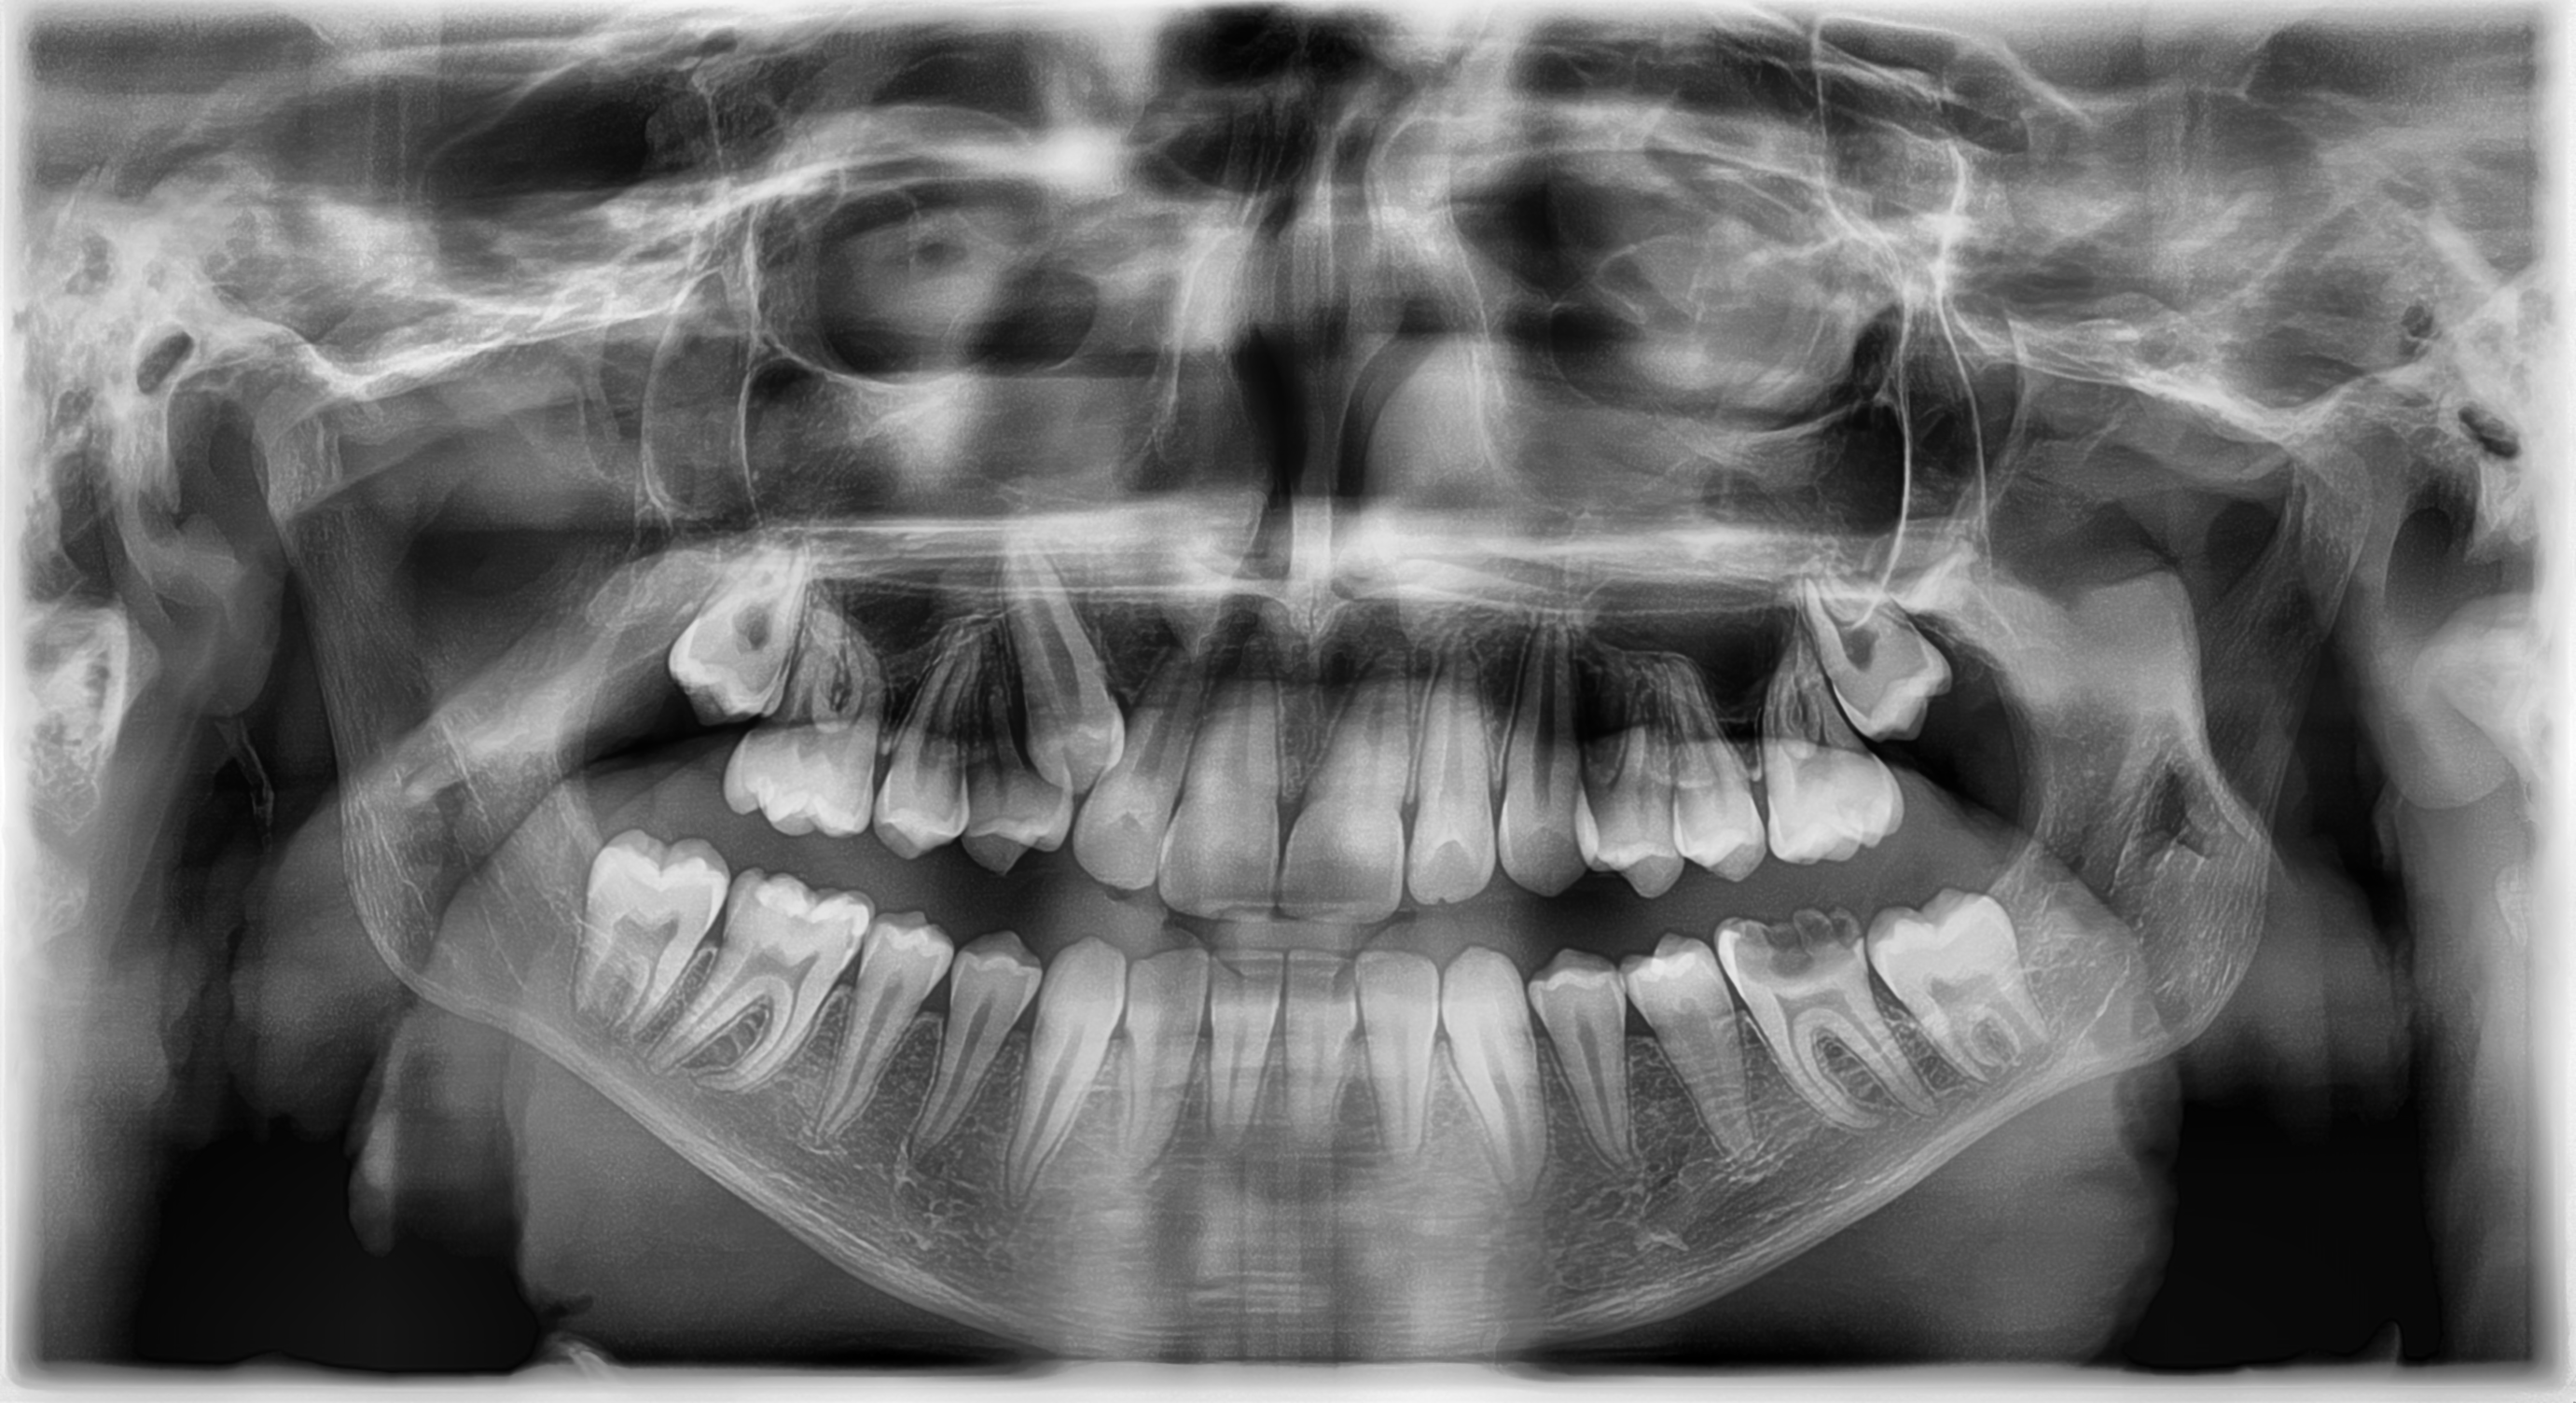caries: (1702, 893, 1896, 1035)
cordal: (1775, 522, 1984, 757), (1856, 873, 2061, 1102), (565, 812, 741, 1044), (651, 541, 839, 748)
diente_retenido: (970, 496, 1153, 802)
